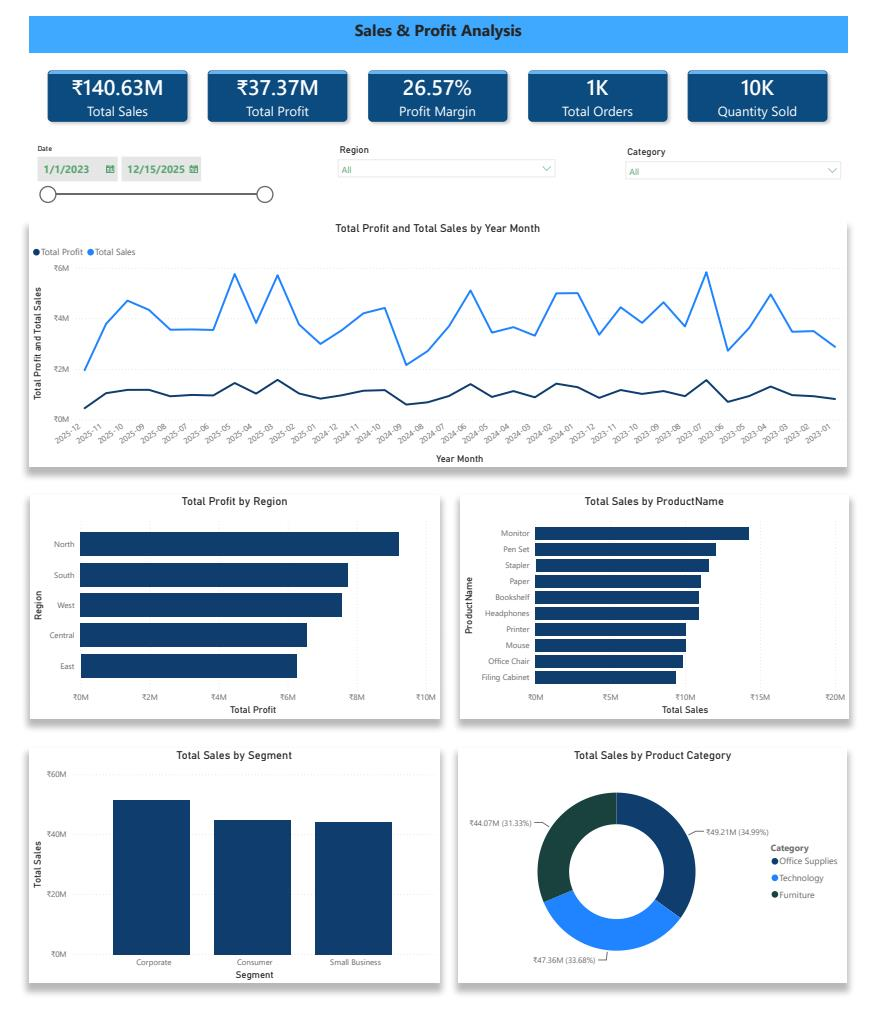

This screenshot's page, from the dashboard's own definition file:
{"tool":"powerbi","page":{"name":"Sales & Profit Analysis","canvas":[1280,1500],"ordinal":0},"visuals":[{"type":"cardVisual","fields":{"Data":["Sales.Total Sales","Sales.Total Profit","Sales.Profit Margin","Sales.Total Orders","Sales.Total Quantity"]},"box":[19.9,54.4,1237.1,135.4],"z":0},{"type":"lineChart","fields":{"Category":["DateTable.Year Month"],"Y":["Sales.Total Profit","Sales.Total Sales"]},"box":[19.9,310.6,1237.1,371.7],"z":1000},{"type":"donutChart","title":"Total Sales by Product Category","fields":{"Category":["Products.Category"],"Y":["Sales.Total Sales"]},"box":[670.3,1107.3,586.6,355.1],"z":2000},{"type":"clusteredBarChart","fields":{"Y":["Sales.Total Profit"],"Category":["Customers.Region"]},"box":[20.8,724,620.2,337.8],"z":3000},{"type":"clusteredBarChart","fields":{"Y":["Sales.Total Sales"],"Category":["Products.ProductName"]},"box":[671.6,723.7,588.1,337.9],"z":4000},{"type":"clusteredColumnChart","fields":{"Y":["Sales.Total Sales"],"Category":["Customers.Segment"]},"box":[19.6,1107.3,621,355.1],"z":5000},{"type":"slicer","fields":{"Values":["DateTable.Date"]},"box":[20.3,189.3,381.7,97],"z":6000},{"type":"slicer","fields":{"Values":["Customers.Region"]},"box":[477.1,189.3,348.8,75.1],"z":7000},{"type":"slicer","fields":{"Values":["Products.Category"]},"box":[911.9,192.4,345.7,72],"z":8000},{"type":"textbox","box":[20.3,0,1237.2,54.7],"z":10000}]}

Visuals, with their boxes in screenshot pixels (x1, y1, x2, y2), scaled from the page's 1280x1500 canvas onto the 878x1024 screenshot:
cardVisual - Sales.Total Sales x Sales.Total Profit: bbox=(14, 37, 862, 130)
lineChart - DateTable.Year Month x Sales.Total Profit: bbox=(14, 212, 862, 466)
"Total Sales by Product Category" donutChart: bbox=(460, 756, 862, 998)
clusteredBarChart - Sales.Total Profit x Customers.Region: bbox=(14, 494, 440, 725)
clusteredBarChart - Sales.Total Sales x Products.ProductName: bbox=(461, 494, 864, 725)
clusteredColumnChart - Sales.Total Sales x Customers.Segment: bbox=(13, 756, 439, 998)
slicer - DateTable.Date: bbox=(14, 129, 276, 195)
slicer - Customers.Region: bbox=(327, 129, 567, 180)
slicer - Products.Category: bbox=(626, 131, 863, 180)
textbox: bbox=(14, 0, 863, 37)
